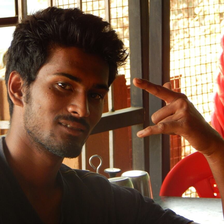no_mask: (28, 42, 104, 161)
